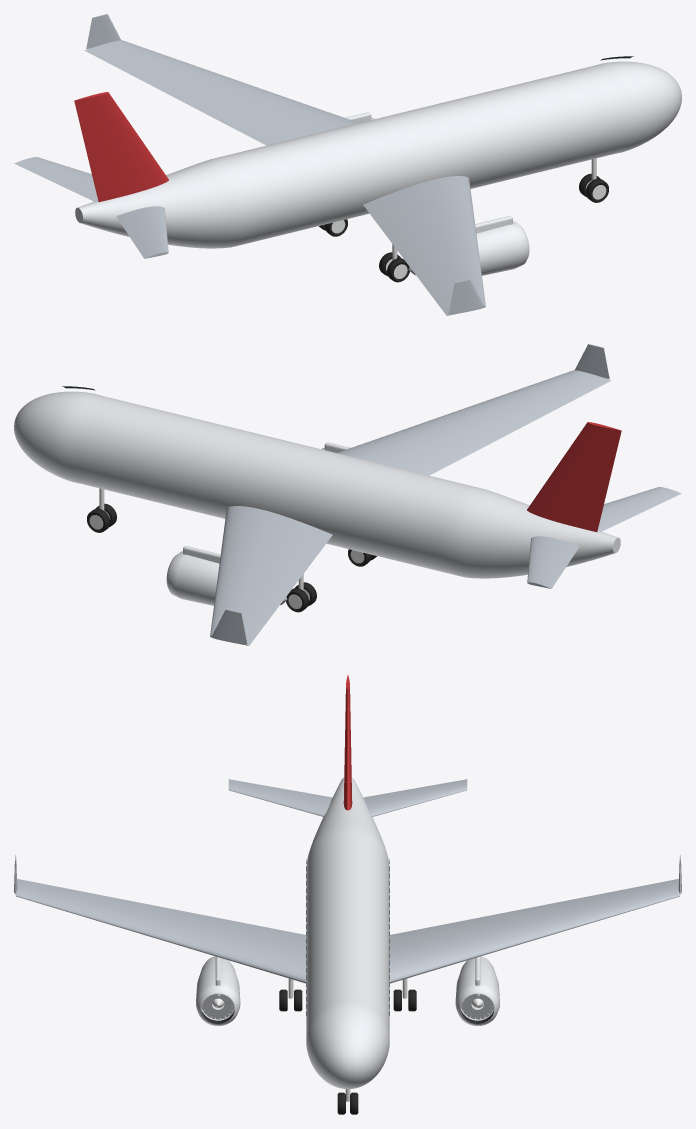
The model's file is airplane.glb.
3 renders of one model, top to bottom at view 1: azimuth 30°, elevation 25°; view 2: azimuth 150°, elevation 25°; view 3: azimuth 270°, elevation 25°, orthographic. The views are drawn at different scales.
Visible parts, largest first — view 1: fuselage body, wing 1, wing -1, fin.001, nacelle 1.25, tailplane 1, tailplane -1, winglet 1, winglet -1; view 2: fuselage body, wing -1, wing 1, fin.001, nacelle -1.25, tailplane -1, tailplane 1, winglet -1, winglet 1; view 3: fuselage body, wing 1, wing -1, tailplane 1, tailplane -1, nacelle -1.25, nacelle 1.25, fin.001.
Part boxes in pixels (x1=…): fuselage body: x1=75, y1=61, x2=681, y2=248; wing 1: x1=363, y1=176, x2=485, y2=315; wing -1: x1=84, y1=40, x2=358, y2=145; fin.001: x1=74, y1=92, x2=168, y2=201; nacelle 1.25: x1=476, y1=221, x2=528, y2=275; tailplane 1: x1=116, y1=206, x2=168, y2=258; tailplane -1: x1=14, y1=157, x2=97, y2=201; winglet 1: x1=448, y1=279, x2=483, y2=314; winglet -1: x1=86, y1=14, x2=120, y2=48; fuselage body: x1=14, y1=391, x2=620, y2=578; wing -1: x1=210, y1=506, x2=332, y2=645; wing 1: x1=337, y1=370, x2=611, y2=475; fin.001: x1=527, y1=422, x2=621, y2=531; nacelle -1.25: x1=167, y1=551, x2=219, y2=605; tailplane -1: x1=527, y1=536, x2=579, y2=588; tailplane 1: x1=598, y1=487, x2=681, y2=531; winglet -1: x1=212, y1=609, x2=246, y2=644; winglet 1: x1=575, y1=344, x2=609, y2=378; fuselage body: x1=306, y1=777, x2=389, y2=1088; wing 1: x1=15, y1=879, x2=306, y2=983; wing -1: x1=389, y1=879, x2=680, y2=983; tailplane 1: x1=228, y1=779, x2=332, y2=816; tailplane -1: x1=363, y1=779, x2=467, y2=816; nacelle -1.25: x1=455, y1=956, x2=499, y2=1025; nacelle 1.25: x1=196, y1=956, x2=240, y2=1025; fin.001: x1=343, y1=675, x2=352, y2=810.
Bounding box in the file's own units: 6.16 × 2.2 × 6.43.
